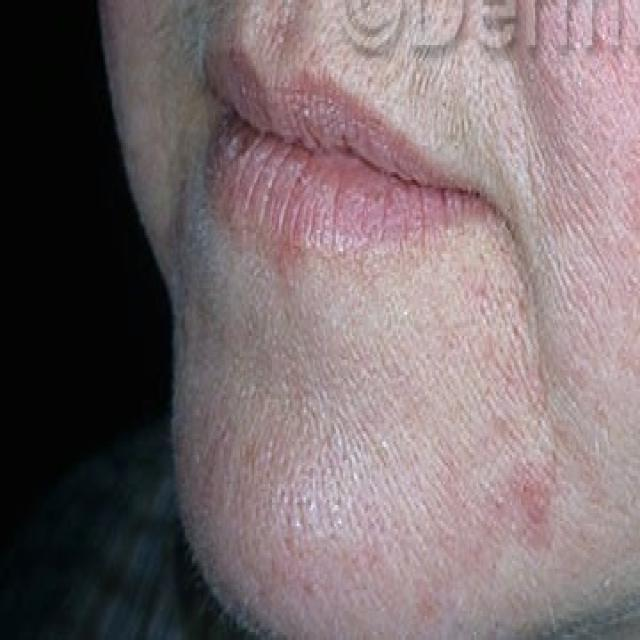Rosacea: (182, 439, 389, 610), (513, 53, 640, 231), (483, 473, 560, 549)
